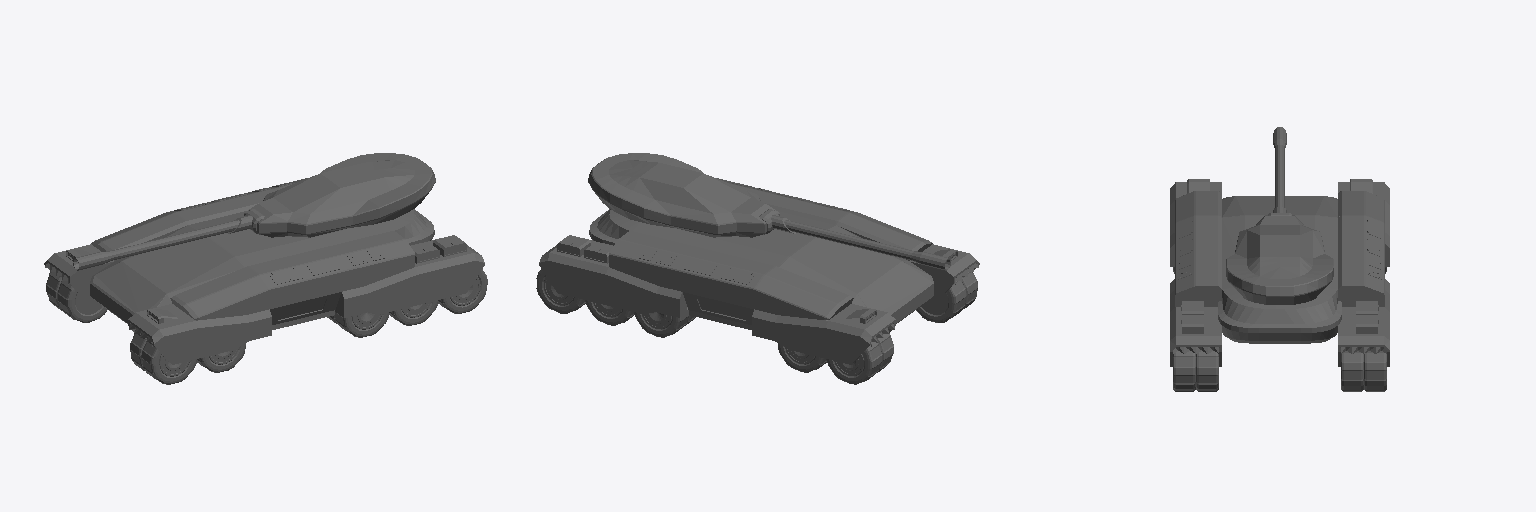
The model's file is Tank1.obj.
The picture shows the model from 3 angles: view 1: azimuth 30°, elevation 25°; view 2: azimuth 150°, elevation 25°; view 3: azimuth 270°, elevation 25°; orthographic projection.
Visible parts, largest first — view 1: tank_body001, tank_head, Weapon, Wheel004, Wheel019, Wheel002, Wheel, Wheel003, Wheel001; view 2: tank_body001, tank_head, Weapon, Wheel014, Wheel009, Wheel010, Wheel012, Wheel013, Wheel011; view 3: tank_body001, tank_head, Weapon, Wheel, Wheel005, Wheel010, Wheel015.
Boxes of the visible parts, x1,y1,x2,y2 form: tank_body001: [44, 178, 484, 364]; tank_head: [244, 153, 435, 237]; Weapon: [73, 209, 264, 270]; Wheel004: [141, 342, 196, 384]; Wheel019: [57, 281, 106, 322]; Wheel002: [335, 307, 388, 337]; Wheel: [438, 269, 487, 313]; Wheel003: [197, 343, 245, 372]; Wheel001: [389, 300, 437, 325]; tank_body001: [539, 178, 979, 364]; tank_head: [588, 153, 779, 237]; Weapon: [759, 209, 950, 270]; Wheel014: [826, 342, 882, 384]; Wheel009: [916, 281, 966, 322]; Wheel010: [536, 269, 585, 313]; Wheel012: [634, 307, 688, 337]; Wheel013: [778, 343, 826, 372]; Wheel011: [585, 300, 634, 325]; tank_body001: [1170, 179, 1389, 366]; tank_head: [1226, 215, 1333, 304]; Weapon: [1268, 127, 1291, 215]; Wheel: [1173, 351, 1195, 391]; Wheel005: [1196, 351, 1218, 391]; Wheel010: [1364, 351, 1386, 391]; Wheel015: [1341, 351, 1363, 391].
Bounding box in the file's own units: 218 × 66.22 × 116.